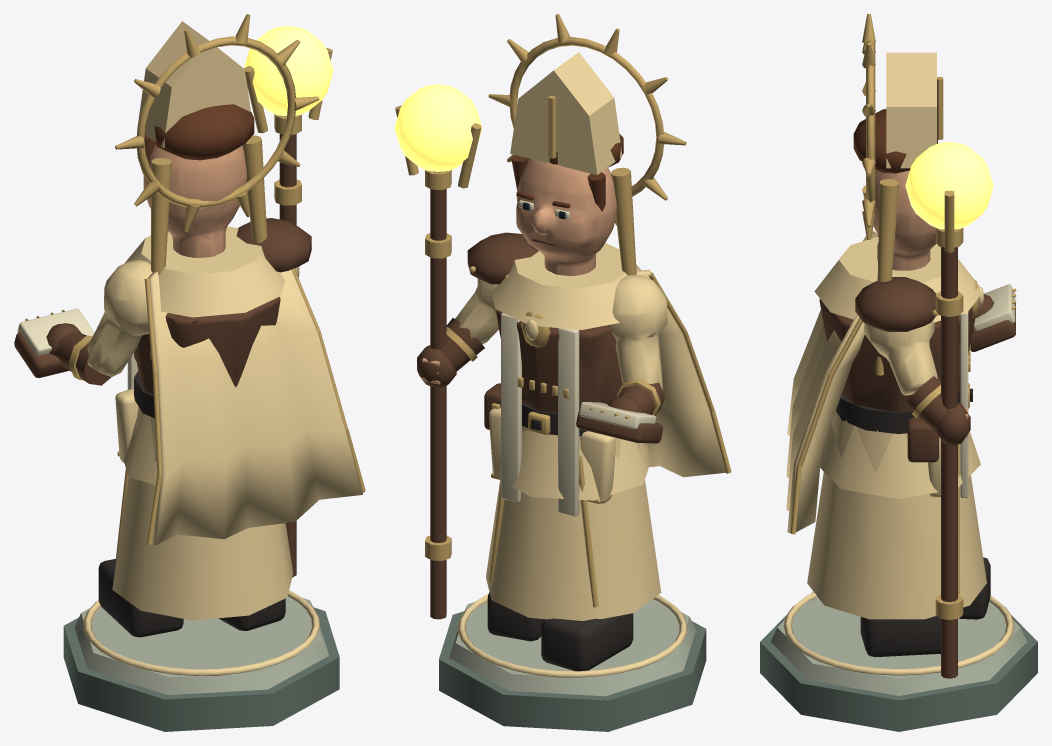
The model's file is advanced_sunhierophant.glb.
The picture shows the model from 3 angles, left to right: view 1: azimuth 30°, elevation 25°; view 2: azimuth 150°, elevation 25°; view 3: azimuth 270°, elevation 25°; orthographic projection. The views are drawn at different scales.
Parts seen in each view (by area): view 1: Rank inlay.001, Boot cuff.002, Beveled limestone top.001, Octagonal footing.001, Boot shaft.002, Unified face and neck.001, Spell focus.001, Auburn eyebrow.002, Leather boot toe.002, Eye white.002; view 2: Rank inlay.001, Boot shaft.002, Boot cuff.002, Octagonal footing.001, Beveled limestone top.001, Eye white.002, Unified face and neck.001, Leather boot toe.002, Spell focus.001, Auburn eyebrow.002; view 3: Rank inlay.001, Boot shaft.002, Beveled limestone top.001, Octagonal footing.001, Boot cuff.002, Spell focus.001, Leather boot toe.002, Unified face and neck.001, Eye white.002, Auburn eyebrow.002.
Part boxes in pixels (x1,y1,x2,y2): Rank inlay.001: (83, 21, 362, 675); Boot cuff.002: (25, 14, 365, 559); Beveled limestone top.001: (74, 596, 328, 694); Octagonal footing.001: (63, 607, 339, 731); Boot shaft.002: (14, 116, 311, 577); Unified face and neck.001: (143, 144, 246, 257); Spell focus.001: (243, 26, 333, 116); Auburn eyebrow.002: (144, 104, 254, 162); Leather boot toe.002: (98, 371, 285, 637); Eye white.002: (17, 308, 138, 389); Rank inlay.001: (455, 52, 725, 677); Boot shaft.002: (417, 171, 665, 619); Boot cuff.002: (395, 14, 731, 607); Octagonal footing.001: (439, 611, 706, 731); Beveled limestone top.001: (449, 599, 695, 696); Eye white.002: (501, 200, 656, 516); Unified face and neck.001: (422, 158, 616, 384); Leather boot toe.002: (487, 402, 633, 671); Spell focus.001: (394, 84, 482, 171); Auburn eyebrow.002: (511, 134, 623, 211); Rank inlay.001: (783, 52, 1014, 675); Boot shaft.002: (819, 247, 1015, 678); Beveled limestone top.001: (771, 591, 1026, 695); Octagonal footing.001: (760, 615, 1037, 731); Boot cuff.002: (790, 14, 1016, 620); Spell focus.001: (905, 142, 993, 229); Leather boot toe.002: (836, 388, 990, 657); Unified face and neck.001: (873, 169, 968, 437); Eye white.002: (960, 284, 1015, 497); Auburn eyebrow.002: (853, 109, 937, 173).
Size of the model in its own units: 1.02 by 2.25 by 0.88.
